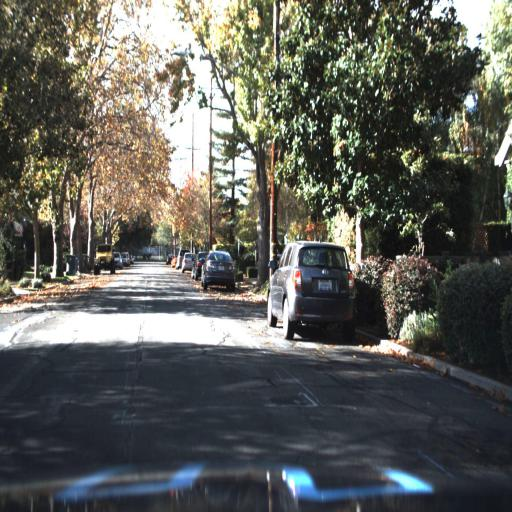car: (264, 232, 370, 342), (198, 247, 236, 294), (92, 243, 118, 274), (179, 246, 195, 280), (191, 250, 203, 287), (112, 247, 124, 272), (121, 249, 129, 272)
